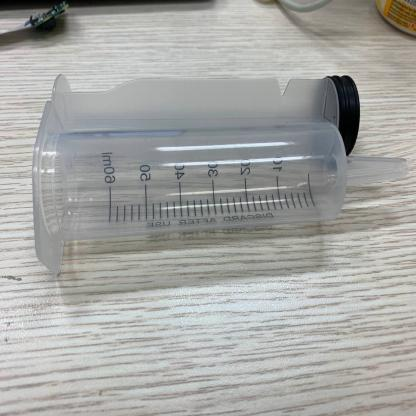dry: (21, 111, 411, 237), (47, 74, 363, 144)
